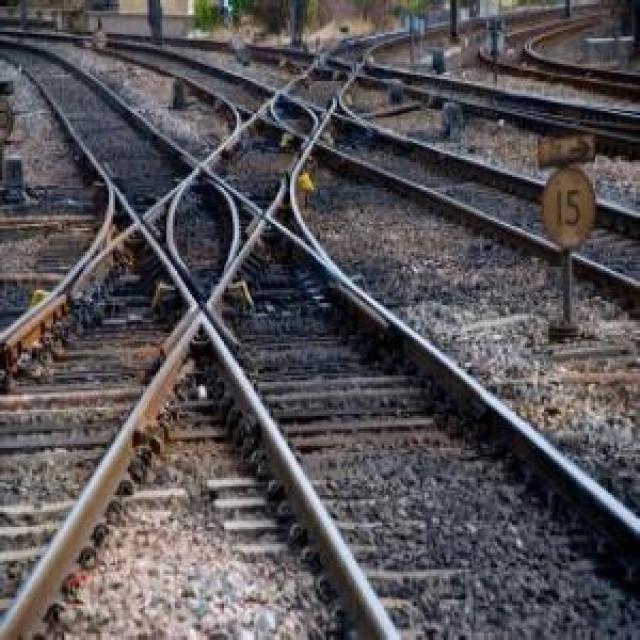rail: (4, 3, 640, 639)
